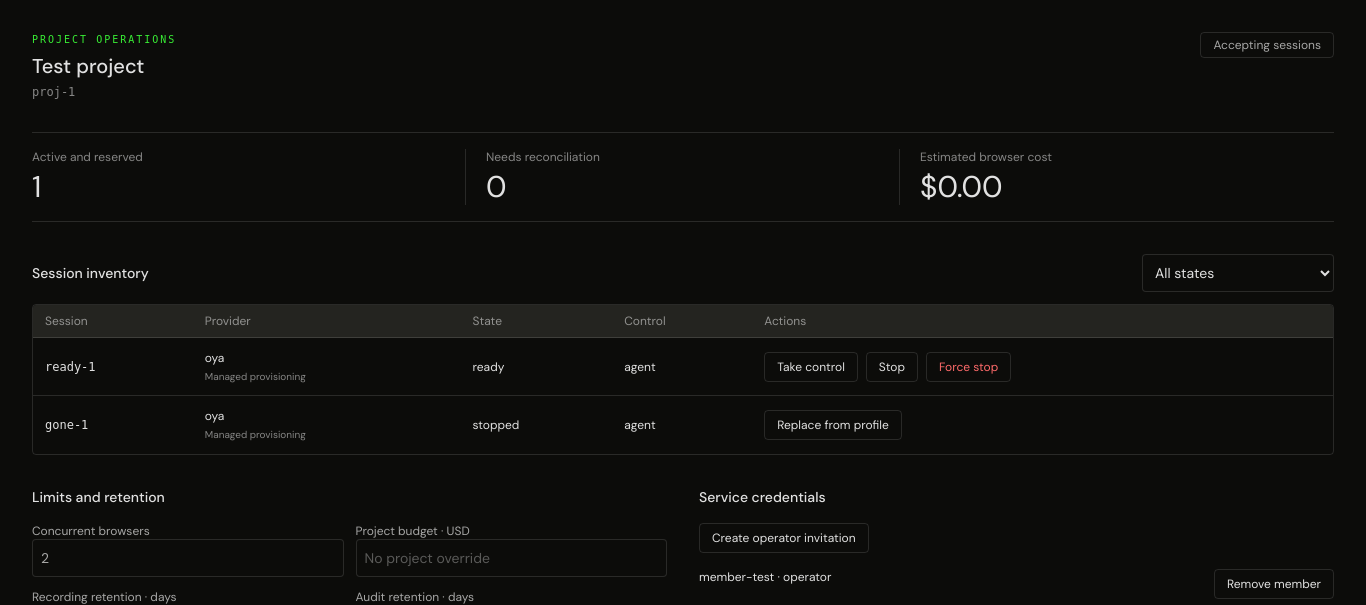
Test case: DurableControl › filters the inventory by state
Select "queued" in the dropdown named "Filter sessions by state" at (1238, 273), box left=1142, top=254, right=1334, bottom=292
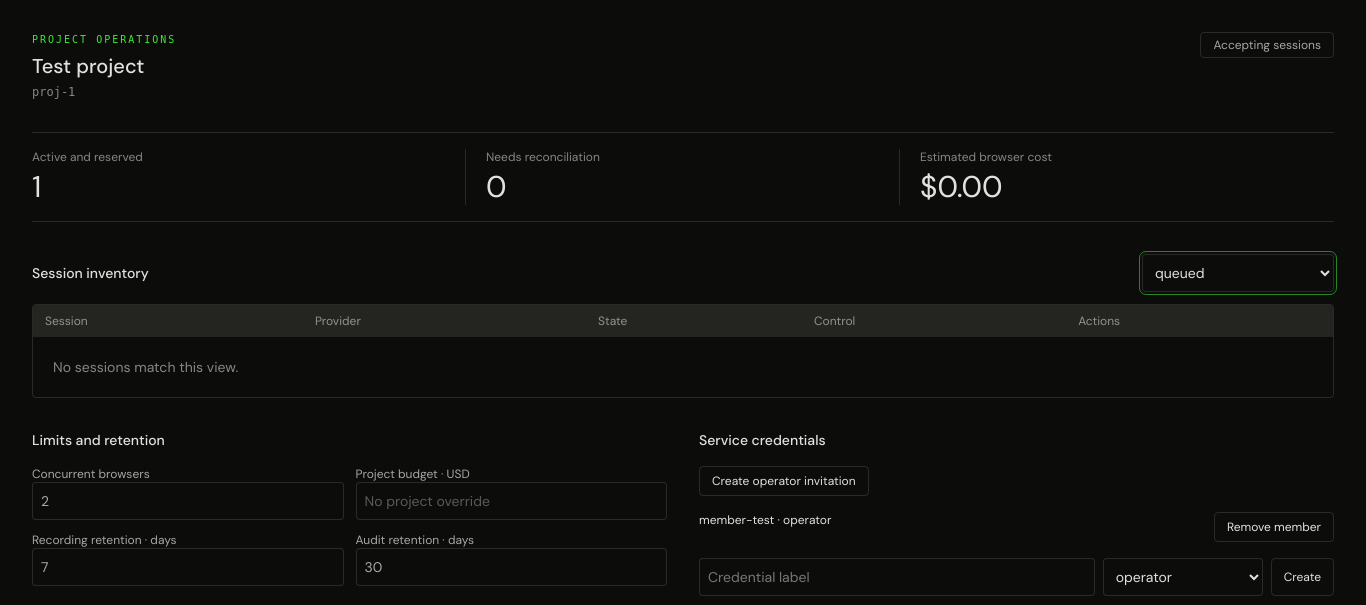
Expected: the text "No sessions match this view." is shown, left=53, top=358, right=238, bottom=376
